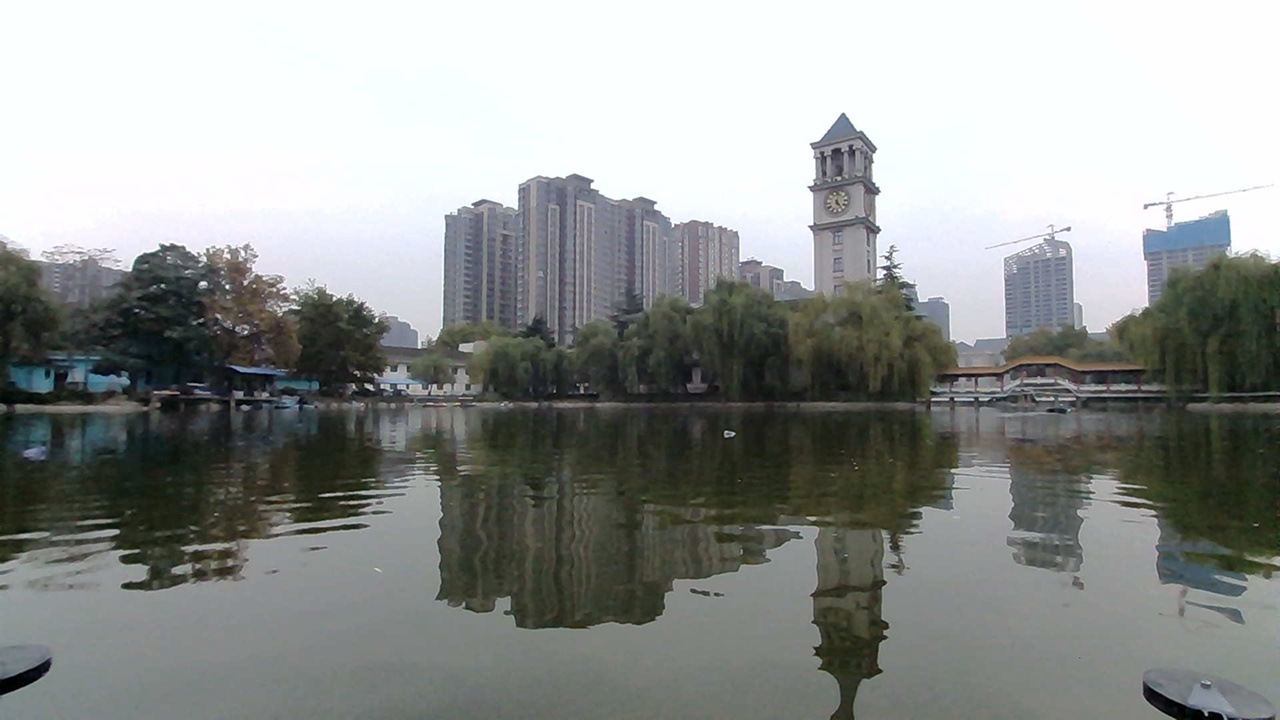bottle: (5, 426, 61, 468), (709, 417, 748, 447)
